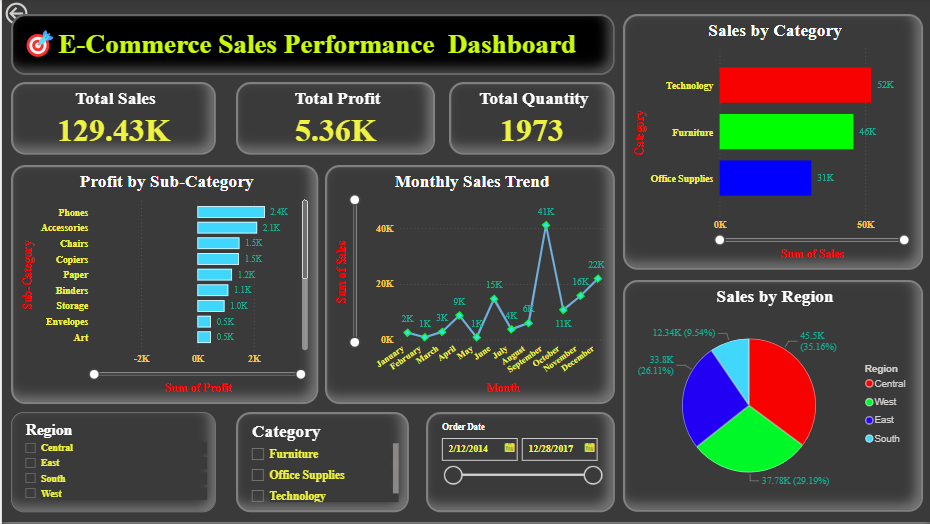

The dashboard page shown, as its layout file describes it:
{"tool":"powerbi","page":{"name":"Page 1","canvas":[1280,720],"ordinal":0},"visuals":[{"type":"actionButton","box":[0,0,100,40],"z":0},{"type":"card","title":"Total Sales","fields":{"Values":["Sum(Ecommerce_Sales_Data.Sales)"]},"box":[12.4,114.2,282.2,100.5],"z":1000},{"type":"card","title":"Total Profit","fields":{"Values":["Sum(Ecommerce_Sales_Data.Profit)"]},"box":[322.1,114.2,273.9,100.5],"z":2000},{"type":"card","title":"Total Quantity","fields":{"Values":["Sum(Ecommerce_Sales_Data.Quantity)"]},"box":[615.2,114.2,228.5,100.5],"z":3000},{"type":"clusteredBarChart","title":"Sales by Category","fields":{"Category":["Ecommerce_Sales_Data.Category"],"Y":["Sum(Ecommerce_Sales_Data.Sales)"]},"box":[854.7,20.6,412.9,352.3],"z":4000},{"type":"clusteredBarChart","title":"Profit by Sub-Category","fields":{"Category":["Ecommerce_Sales_Data.Sub-Category"],"Y":["Sum(Ecommerce_Sales_Data.Profit)"]},"box":[12.4,228.5,422.5,328.9],"z":5000},{"type":"lineChart","title":"Monthly Sales Trend","fields":{"Category":["Ecommerce_Sales_Data.Order Date.Variation.Date Hierarchy.Month"],"Y":["Sum(Ecommerce_Sales_Data.Sales)"]},"box":[444.6,228.5,399.1,328.9],"z":6000},{"type":"pieChart","title":"Sales by Region","fields":{"Category":["Ecommerce_Sales_Data.Region"],"Y":["Sum(Ecommerce_Sales_Data.Sales)"]},"box":[854.7,386.8,412.9,319.3],"z":7000},{"type":"slicer","title":"Region","fields":{"Values":["Ecommerce_Sales_Data.Region"]},"box":[12.4,568.4,282.2,137.6],"z":8000},{"type":"slicer","title":"Category","fields":{"Values":["Ecommerce_Sales_Data.Category"]},"box":[322.1,568.4,238.1,137.6],"z":9000},{"type":"slicer","title":"Order Date","fields":{"Values":["Ecommerce_Sales_Data.Order Date"]},"box":[583.6,568.4,260.1,137.6],"z":10000},{"type":"textbox","box":[12.4,20.6,831.3,84],"z":11000}]}

Visuals, with their boxes in screenshot pixels (x1, y1, x2, y2), scaled from the page's 1280x720 canvas onto the 930x524 screenshot:
actionButton: pyautogui.locateOnScreen(0, 0, 73, 29)
"Total Sales" card: pyautogui.locateOnScreen(9, 83, 214, 156)
"Total Profit" card: pyautogui.locateOnScreen(234, 83, 433, 156)
"Total Quantity" card: pyautogui.locateOnScreen(447, 83, 613, 156)
"Sales by Category" clusteredBarChart: pyautogui.locateOnScreen(621, 15, 921, 271)
"Profit by Sub-Category" clusteredBarChart: pyautogui.locateOnScreen(9, 166, 316, 406)
"Monthly Sales Trend" lineChart: pyautogui.locateOnScreen(323, 166, 613, 406)
"Sales by Region" pieChart: pyautogui.locateOnScreen(621, 282, 921, 514)
"Region" slicer: pyautogui.locateOnScreen(9, 414, 214, 514)
"Category" slicer: pyautogui.locateOnScreen(234, 414, 407, 514)
"Order Date" slicer: pyautogui.locateOnScreen(424, 414, 613, 514)
textbox: pyautogui.locateOnScreen(9, 15, 613, 76)
